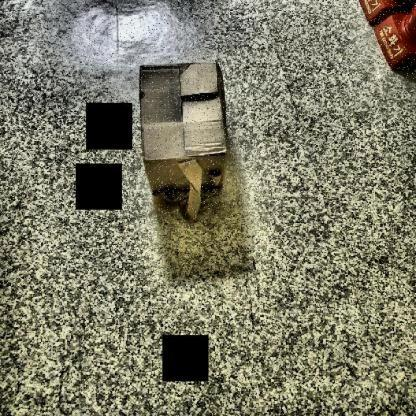-: (134, 54, 241, 203)
